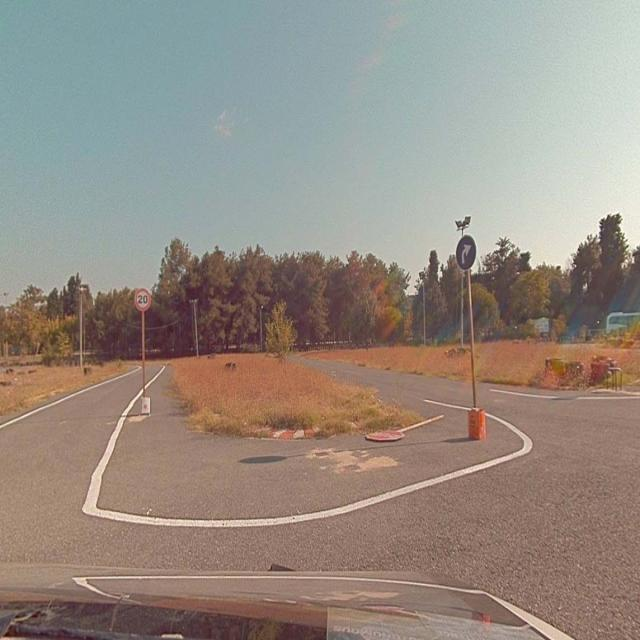20: (135, 288, 149, 309)
sag: (455, 234, 477, 270)
